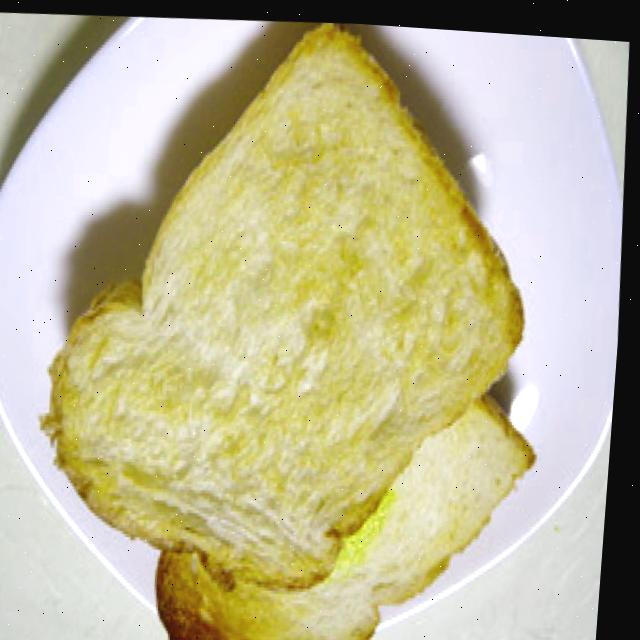面包点心: (26, 6, 574, 640)
